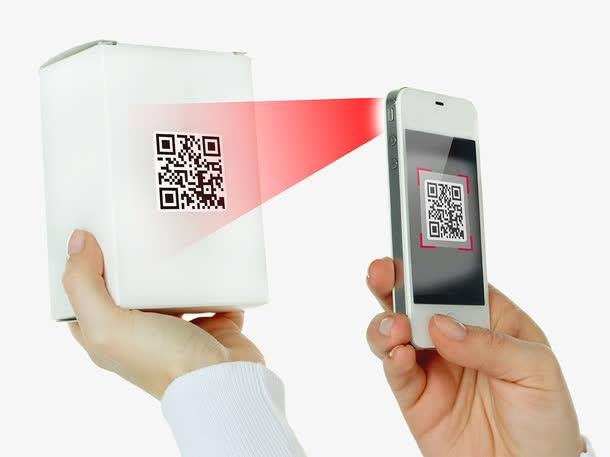QRCode: (153, 130, 232, 217), (419, 180, 470, 245)
